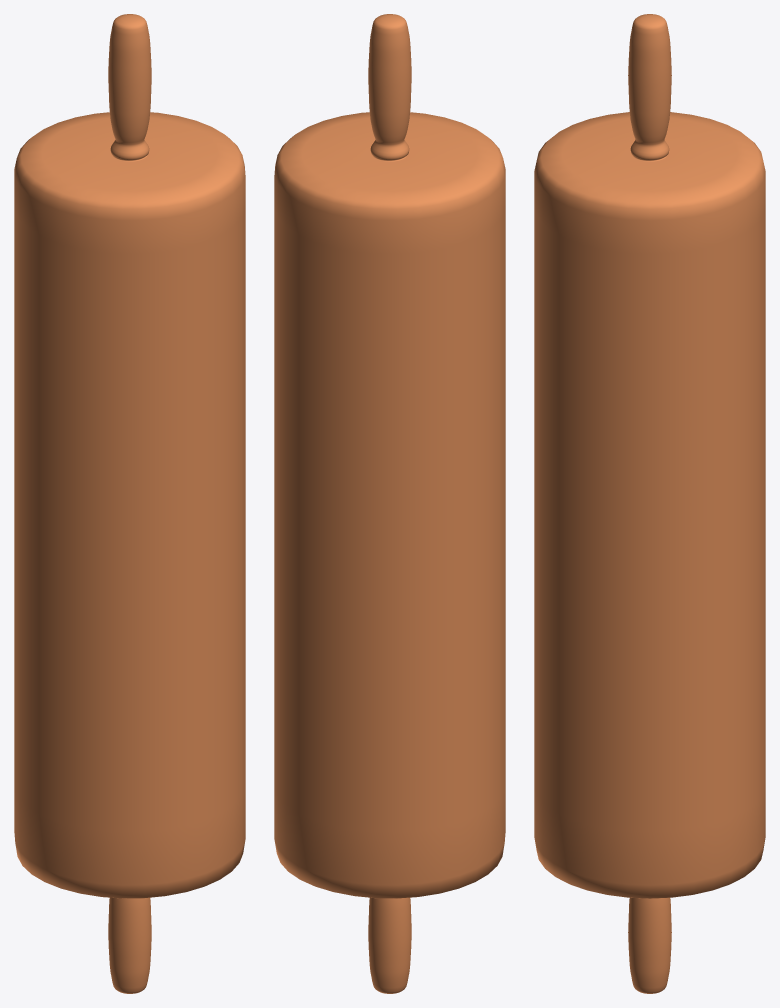
Rendered from RollingPin.fbx.
3 views of the same model, side by side, from view 1: azimuth 30°, elevation 25°; view 2: azimuth 150°, elevation 25°; view 3: azimuth 270°, elevation 25° (orthographic).
Parts seen in each view (by area): view 1: Cylinder; view 2: Cylinder; view 3: Cylinder.
Part boxes in pixels (x1,y1,x2,y2): Cylinder: (14,14,245,993); Cylinder: (274,14,505,993); Cylinder: (534,14,765,993).
Bounding box in the file's own units: 386 × 1788 × 386.
